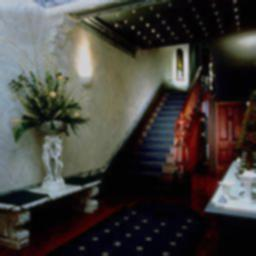Escaleras: (113, 73, 203, 194)
Matera: (13, 77, 90, 193)
Puerta: (214, 102, 243, 168)
